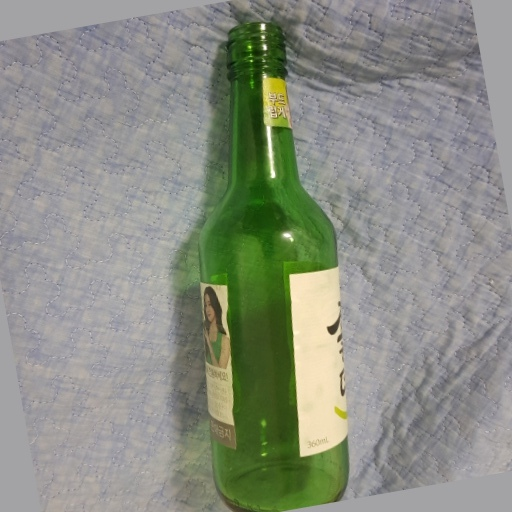Glass_0: (182, 16, 354, 512)
